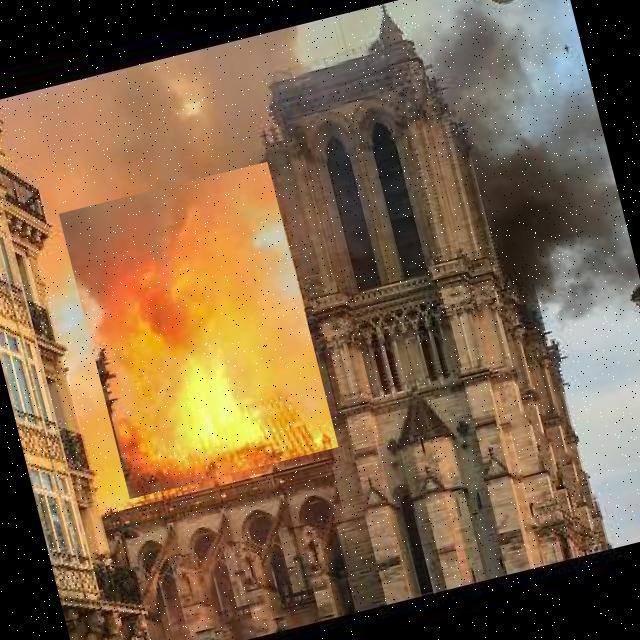fire: (58, 161, 338, 498)
